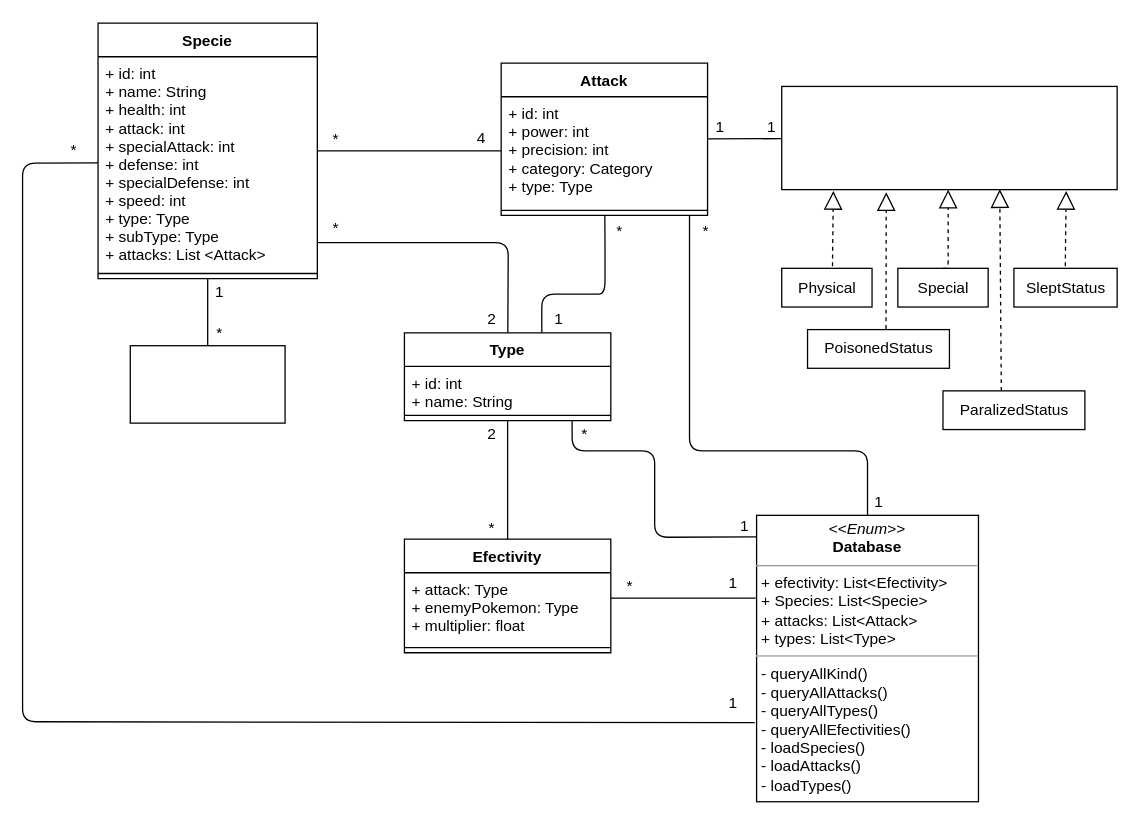
The diagram is 1140 pixels wide and 824 high, and some of its shapes have lost their labels. The centre of each missing label's shape, as x and y in pixels:
"<<Interface>> Category - attack (enemy: Pokemon, attacker: Pokemon)" goes at pixel 948 137.
"Pokemon" goes at pixel 207 383.
